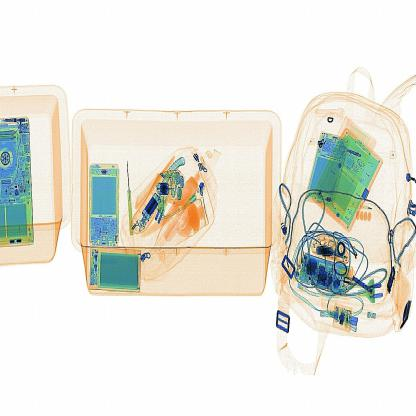wrench: (118, 155, 140, 241)
